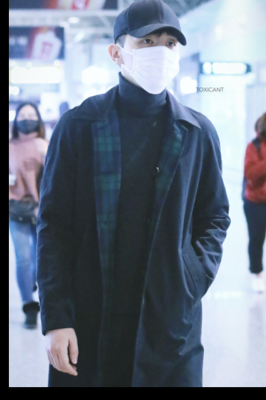with_mask: (124, 33, 180, 95), (15, 108, 39, 134)
